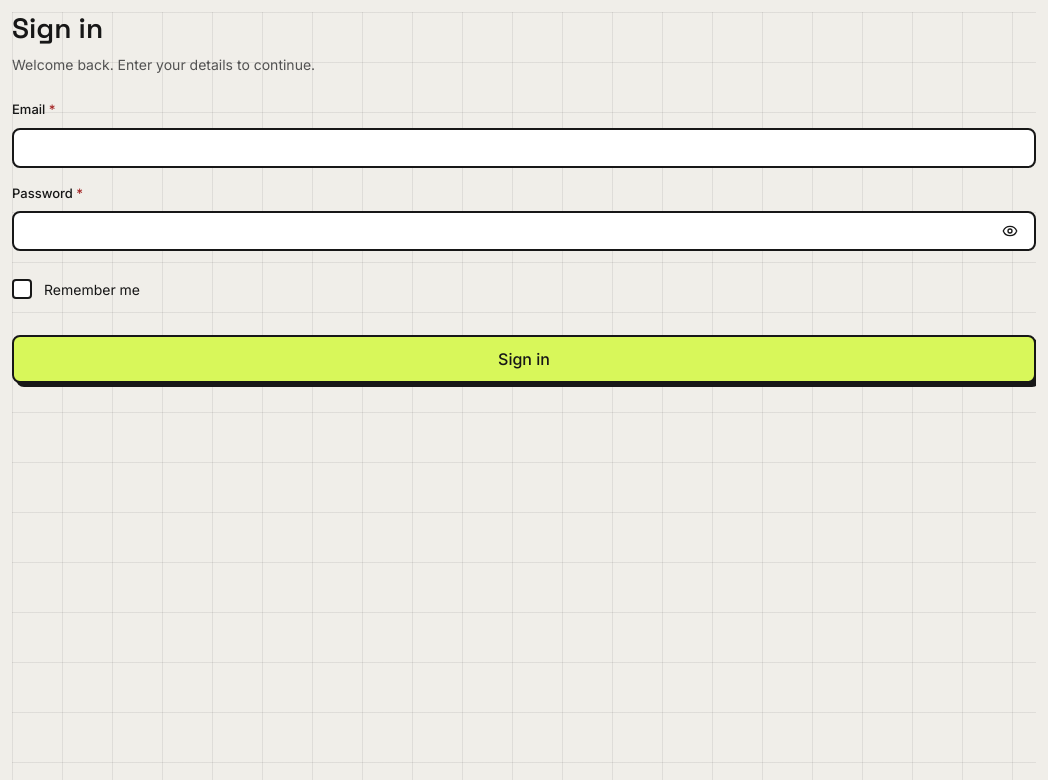
Test case: LoginForm › rejects a malformed email and clears the error when the field changes
Type "ann" into the field labelled "Email *".
click(524, 148); type("ann")  # box [26, 130, 1022, 166]
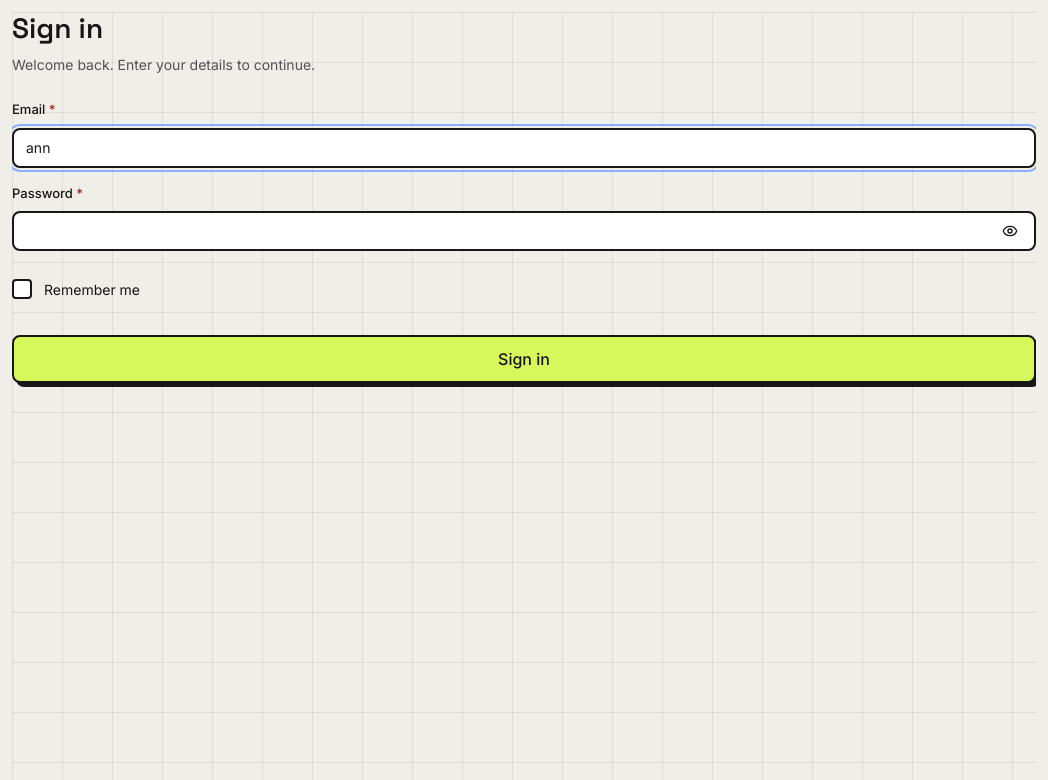
Type "secret" into the password field labelled "Password *".
click(508, 231); type("secret")  # box [26, 213, 990, 249]
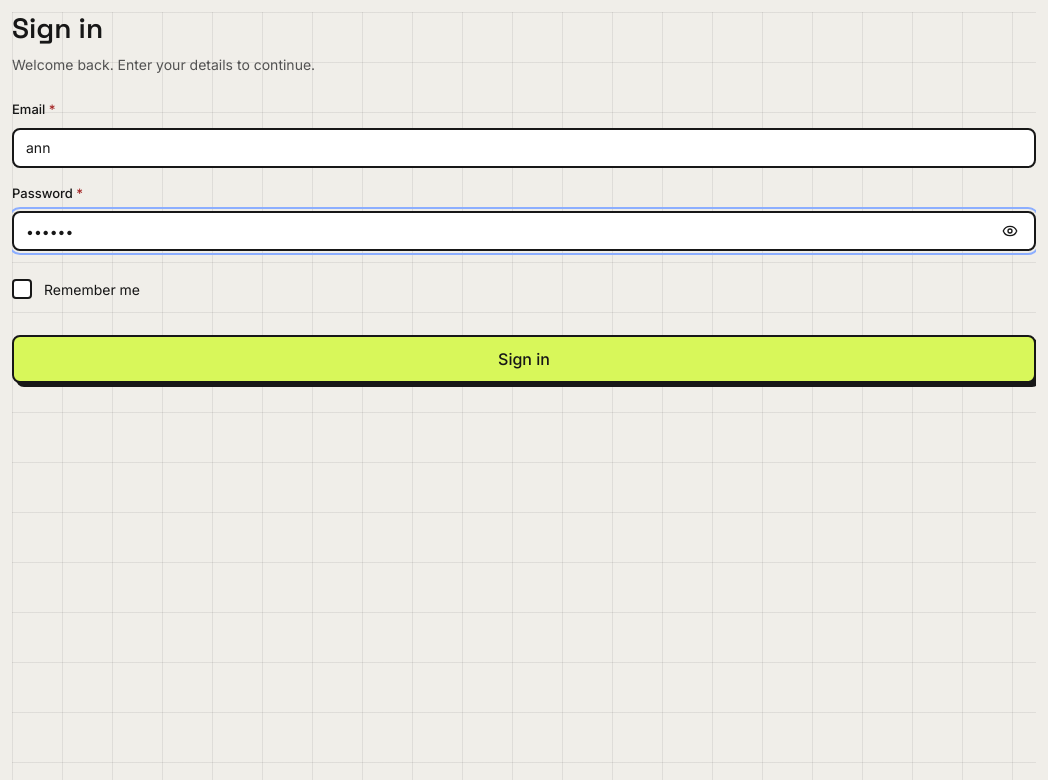
Click the button "Sign in".
click(524, 359)  # box [12, 335, 1036, 383]
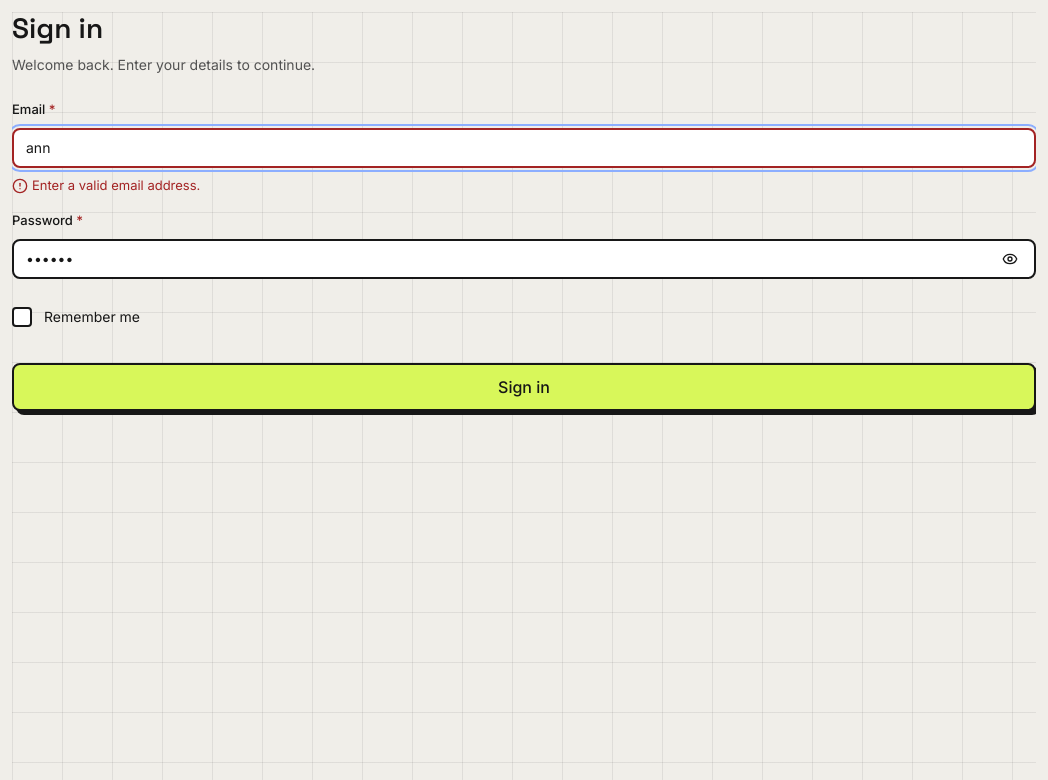
Expected: the text "Enter a valid email address." is shown, [32, 176, 200, 195]
Type "@example.com" into the field labelled "Email *".
click(524, 148); type("@example.com")  # box [26, 130, 1022, 166]
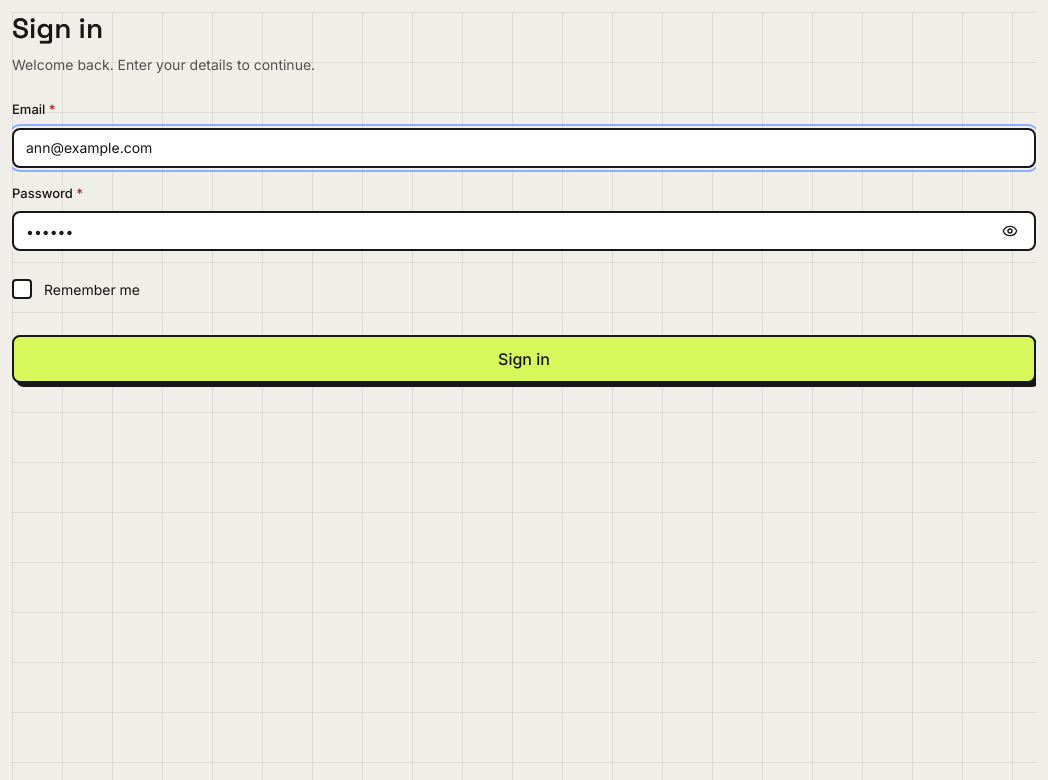
Expected: the text "Enter a valid email address." is gone
